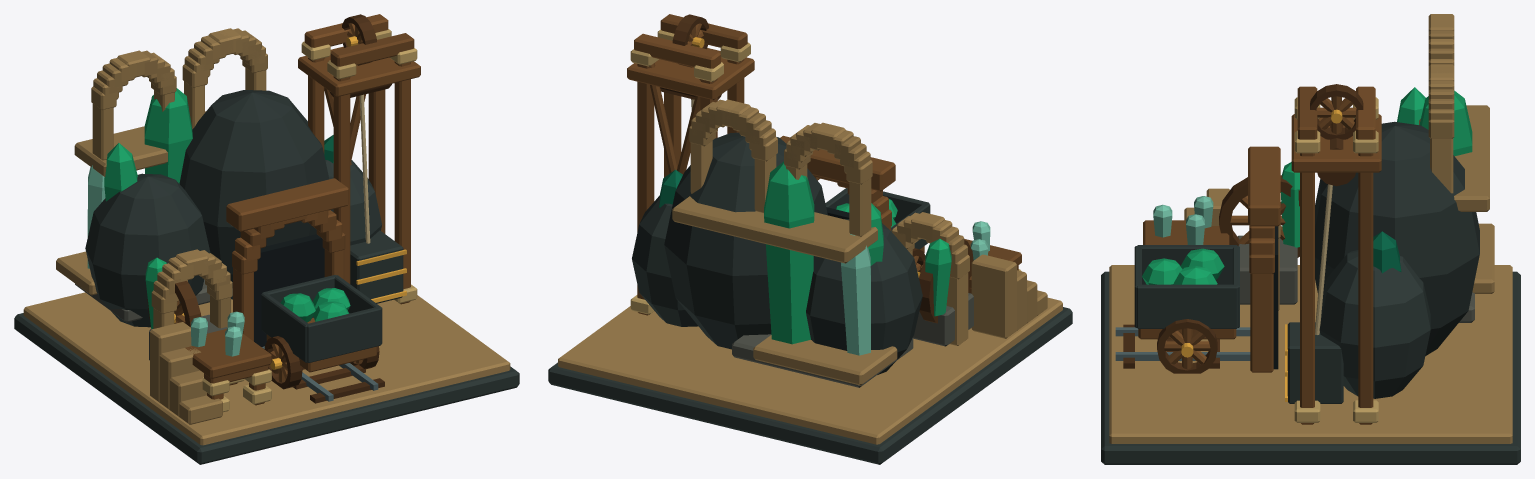
3 renders of one model, left to right at view 1: azimuth 30°, elevation 25°; view 2: azimuth 150°, elevation 25°; view 3: azimuth 270°, elevation 25°, orthographic. The views are drawn at different scales.
Parts seen in each view (by area): view 1: gem_mine_10_structure, gem_mine_10_metal; view 2: gem_mine_10_structure; view 3: gem_mine_10_structure, gem_mine_10_metal.
Boxes of the visible parts, box(x1,y1,x2,y2) form: gem_mine_10_structure: box(14, 14, 519, 464); gem_mine_10_metal: box(174, 36, 406, 369); gem_mine_10_structure: box(548, 14, 1072, 464); gem_mine_10_structure: box(1101, 14, 1520, 464); gem_mine_10_metal: box(1181, 109, 1342, 401).
Bounding box in the file's own units: 3.6 × 3.29 × 3.6.
